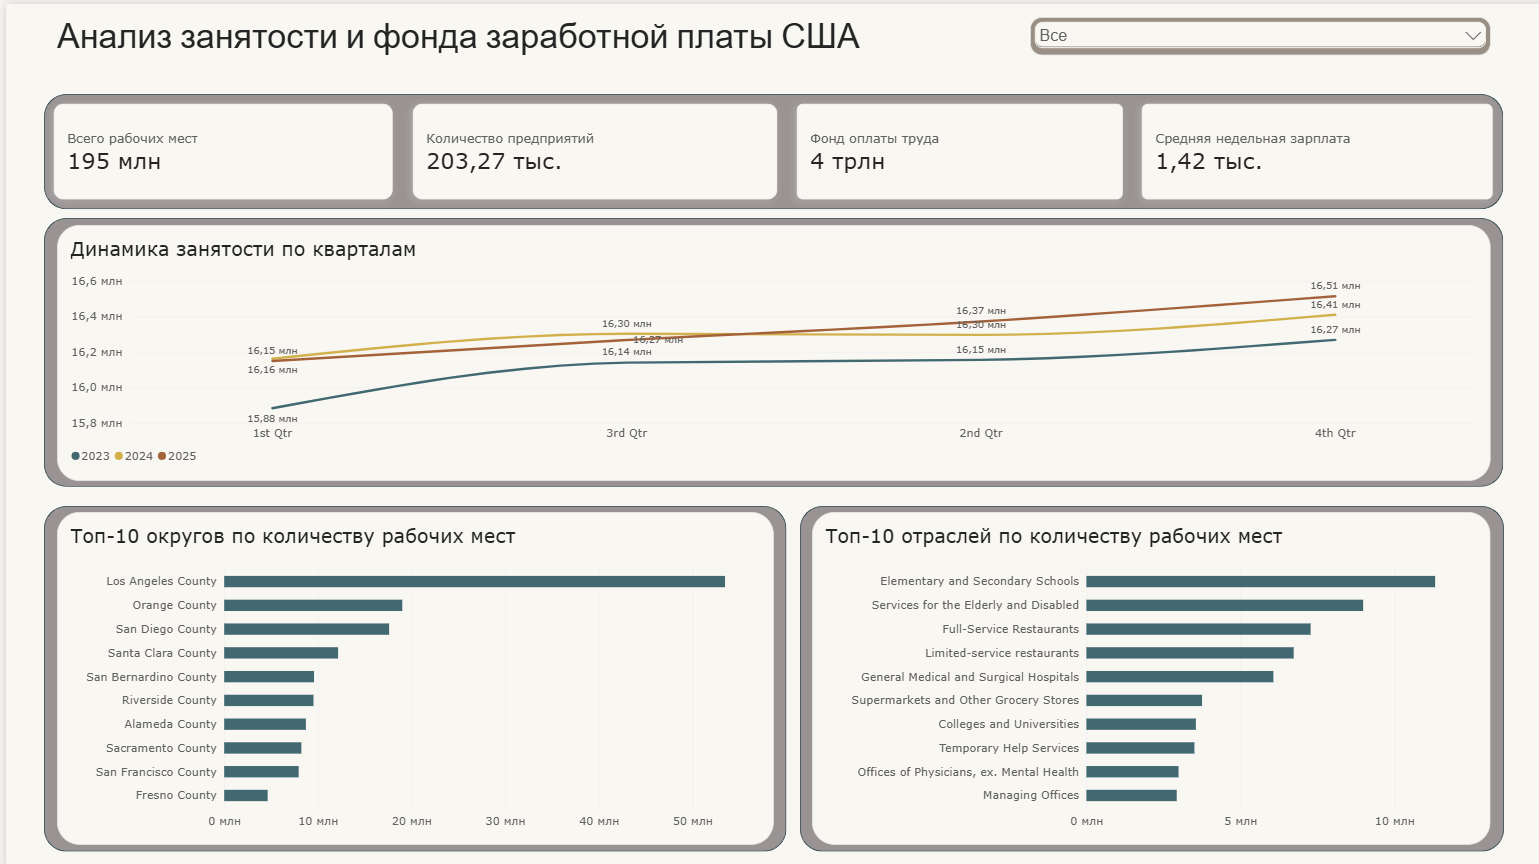

The dashboard page shown, as its layout file describes it:
{"tool":"powerbi","page":{"name":"Part 1 (Russian version)","canvas":[1920,1080],"ordinal":0},"visuals":[{"type":"shape","box":[48,112,1824,144],"z":1000},{"type":"cardVisual","fields":{"Data":["_Measures.Total Employment"]},"box":[48,112,448,144],"z":2000},{"type":"cardVisual","fields":{"Data":["_Measures.Total Wages"]},"box":[976,112,432,144],"z":3000},{"type":"cardVisual","fields":{"Data":["_Measures.Avg Weekly Wage"]},"box":[1408,112,464,144],"z":4000},{"type":"cardVisual","fields":{"Data":["CountNonNull(Fact_Employment_Wages.Establishments)"]},"box":[496,112,480,144],"z":5000},{"type":"shape","box":[48,268,1824,336],"z":6000},{"type":"lineChart","title":"Динамика занятости по кварталам","fields":{"Category":["Dim_Date.Time_Period"],"Series":["Dim_Date.Year"],"Y":["_Measures.Total Employment"]},"box":[64,276,1792,320],"z":7000},{"type":"shape","box":[48,627,928,432],"z":8000},{"type":"clusteredBarChart","title":"Топ-10 округов по количеству рабочих мест","fields":{"Category":["Dim_Geography.Area_Name"],"Y":["_Measures.Total Employment"]},"box":[64,635,896,416],"z":9000},{"type":"shape","box":[992,627,880,432],"z":10000},{"type":"clusteredBarChart","title":"Топ-10 отраслей по количеству рабочих мест","fields":{"Category":["Dim_Industry.Industry_Name"],"Y":["_Measures.Total Employment"]},"box":[1008,635,848,416],"z":11000},{"type":"slicer","fields":{"Values":["Fact_Employment_Wages.Ownership"]},"box":[1280,16,576,48],"z":13000},{"type":"textbox","box":[64,16,1024,64],"z":14000}]}

Visuals, with their boxes in screenshot pixels (x1, y1, x2, y2), scaled from the page's 1920x1080 canvas onto the 1539x864 screenshot:
shape: <bbox>38, 90, 1501, 205</bbox>
cardVisual - _Measures.Total Employment: <bbox>38, 90, 398, 205</bbox>
cardVisual - _Measures.Total Wages: <bbox>782, 90, 1129, 205</bbox>
cardVisual - _Measures.Avg Weekly Wage: <bbox>1129, 90, 1501, 205</bbox>
cardVisual - CountNonNull(Fact_Employment_Wages.Establishments): <bbox>398, 90, 782, 205</bbox>
shape: <bbox>38, 214, 1501, 483</bbox>
"Динамика занятости по кварталам" lineChart: <bbox>51, 221, 1488, 477</bbox>
shape: <bbox>38, 502, 782, 847</bbox>
"Топ-10 округов по количеству рабочих мест" clusteredBarChart: <bbox>51, 508, 770, 841</bbox>
shape: <bbox>795, 502, 1501, 847</bbox>
"Топ-10 отраслей по количеству рабочих мест" clusteredBarChart: <bbox>808, 508, 1488, 841</bbox>
slicer - Fact_Employment_Wages.Ownership: <bbox>1026, 13, 1488, 51</bbox>
textbox: <bbox>51, 13, 872, 64</bbox>
